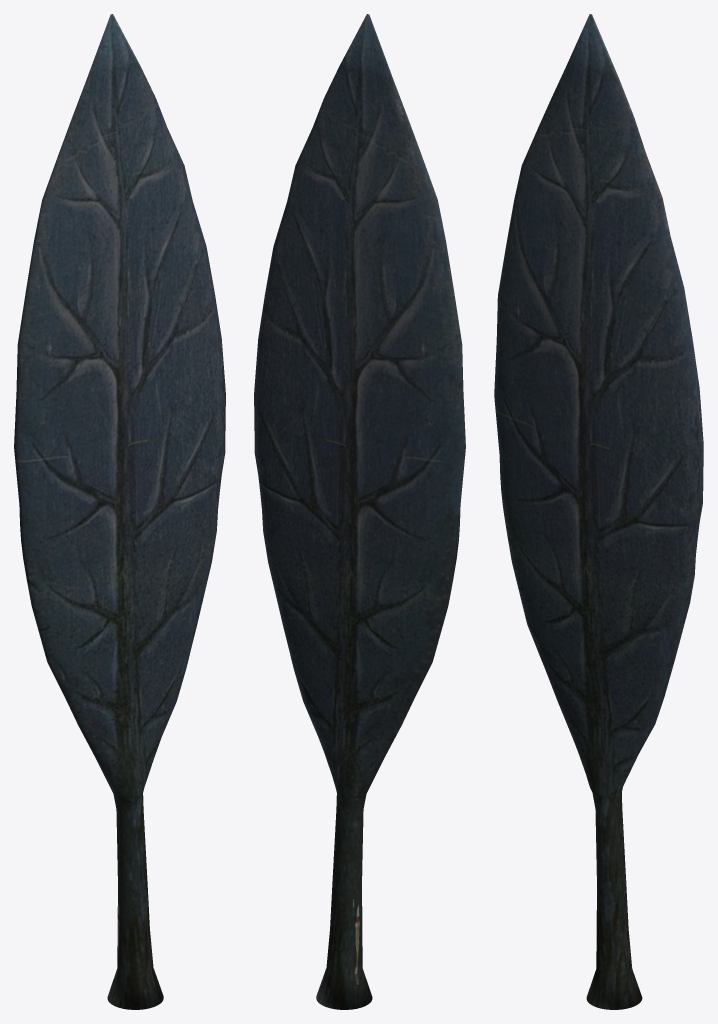
The model's file is albero.glb.
3 renders of one model, left to right at view 1: azimuth 30°, elevation 25°; view 2: azimuth 150°, elevation 25°; view 3: azimuth 330°, elevation 25°, orthographic.
Visible parts, largest first — view 1: foglia 1.003; view 2: foglia 1.003; view 3: foglia 1.003.
Part boxes in pixels (<box>): foglia 1.003: <box>14,14,225,1009</box>; foglia 1.003: <box>254,14,465,1009</box>; foglia 1.003: <box>494,14,703,1009</box>.
Bounding box in the file's own units: 0.9367 × 4.18 × 0.2162.
1 material, 1 textured.
